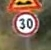limite 30: (10, 10, 41, 36)
